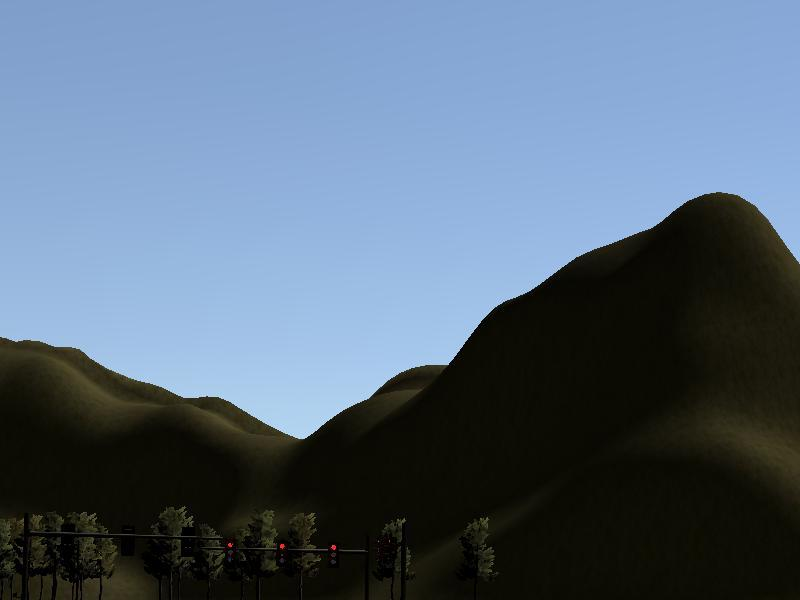Red: (325, 541, 338, 569), (276, 539, 288, 566), (225, 539, 235, 565)
